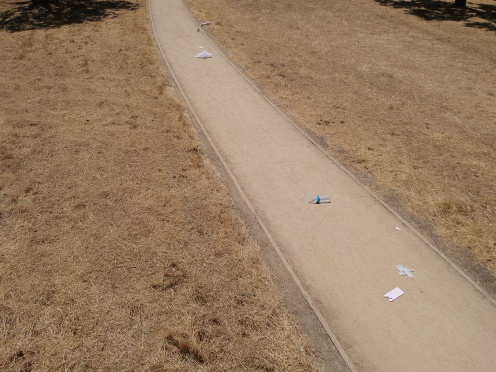bottle: (303, 190, 334, 205)
plastic bag: (194, 51, 214, 59)
